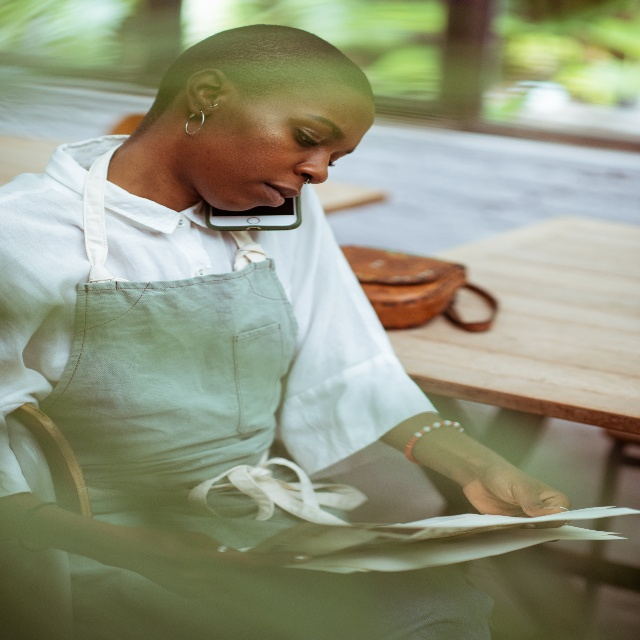Sin_guantes: (465, 448, 572, 524)
